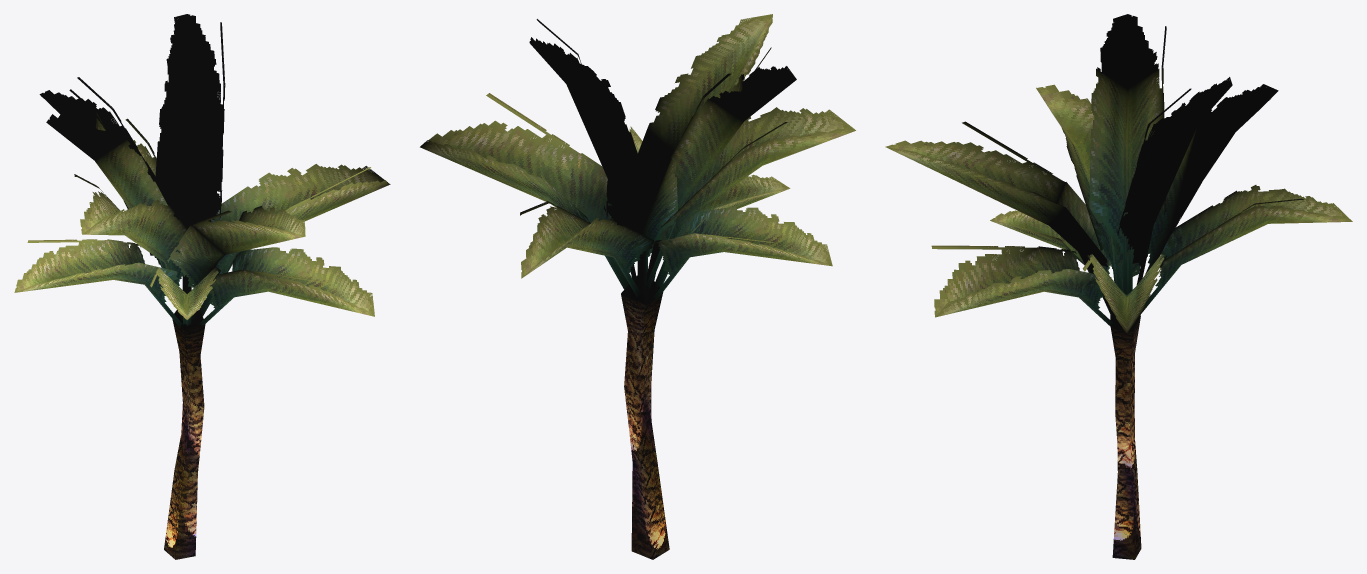
The model's file is stage-lasv-p3-1303.glb.
The picture shows the model from 3 angles, left to right: view 1: azimuth 30°, elevation 25°; view 2: azimuth 150°, elevation 25°; view 3: azimuth 270°, elevation 25°; orthographic projection. The views are drawn at different scales.
Bounding box in the file's own units: 4.91 × 6.12 × 5.18.
Materials: 2 (2 with a texture image).
